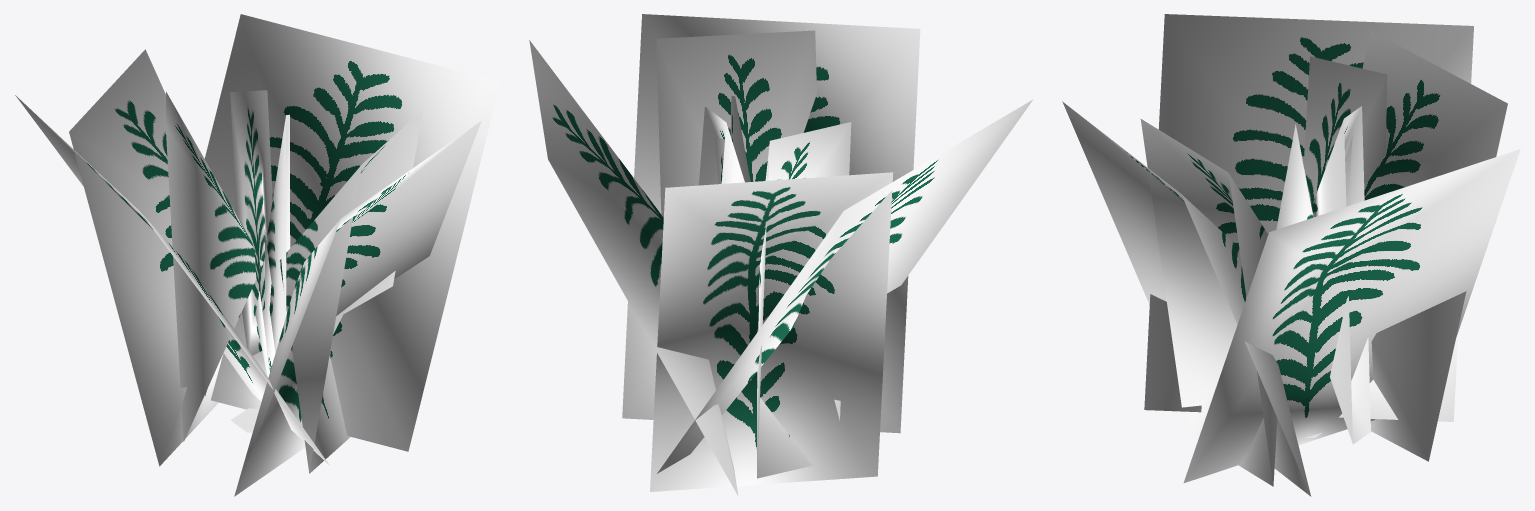
The model's file is jungle plant3 .fbx.
3 renders of one model, left to right at view 1: azimuth 30°, elevation 25°; view 2: azimuth 150°, elevation 25°; view 3: azimuth 270°, elevation 25°, orthographic. The views are drawn at different scales.
Visible parts, largest first — view 1: leaf test2_1.001; view 2: leaf test2_1.001; view 3: leaf test2_1.001.
Part boxes in pixels (bbox=[...]): leaf test2_1.001: bbox=[15, 14, 500, 496]; leaf test2_1.001: bbox=[529, 14, 1033, 496]; leaf test2_1.001: bbox=[1062, 14, 1520, 496].
Size of the model in its own units: 97.32 by 74.58 by 90.39.
